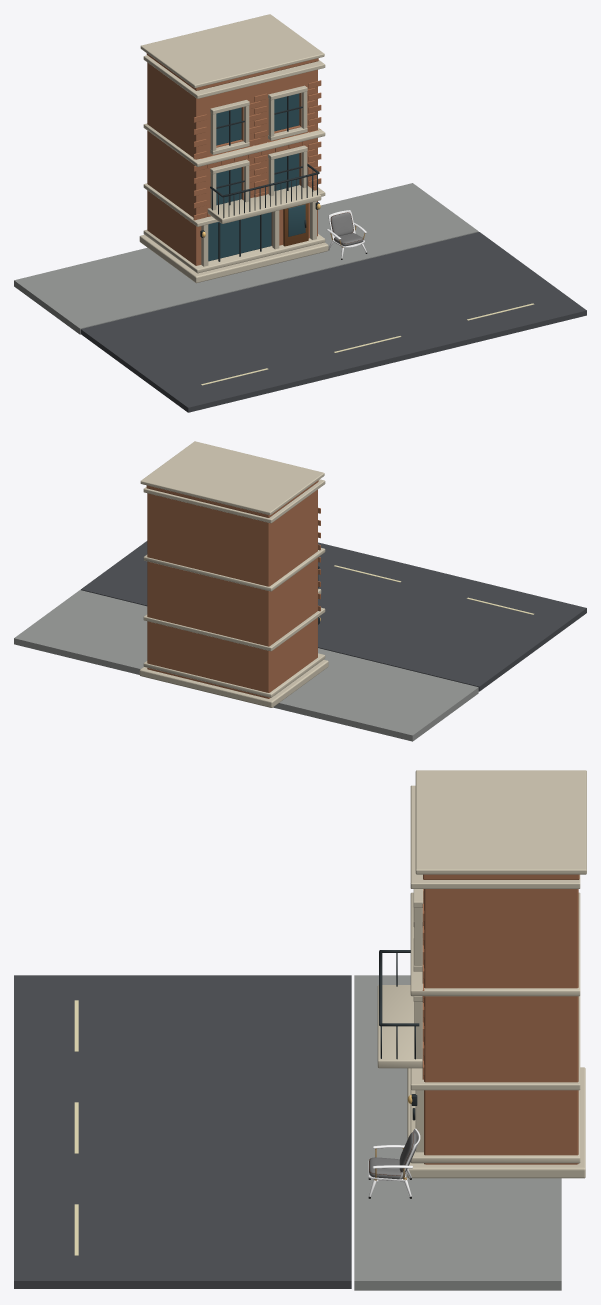
File: garage.glb
The picture shows the model from 3 angles, top to bottom: view 1: azimuth 30°, elevation 25°; view 2: azimuth 150°, elevation 25°; view 3: azimuth 270°, elevation 25°; orthographic projection. The views are drawn at different scales.
Parts seen in each view (by area): view 1: street, sidewalk, facade, roof_cap, shop_window, foundation, balcony_floor, cornice, base_course, middle_course, upper_window_left, upper_window_right (+6 smaller); view 2: facade, street, sidewalk, roof_cap, foundation, cornice, base_course, middle_course, shop_header, parapet; view 3: street, facade, sidewalk, roof_cap, foundation, balcony_floor, middle_course, cornice, shop_header, base_course, parapet.
Boxes of the visible parts, bbox=[...] form: street: bbox=[80, 232, 586, 412]; sidewalk: bbox=[14, 183, 478, 334]; facade: bbox=[147, 62, 317, 265]; roof_cap: bbox=[140, 14, 324, 88]; shop_window: bbox=[208, 212, 271, 261]; foundation: bbox=[139, 234, 328, 283]; balcony_floor: bbox=[207, 185, 321, 223]; cornice: bbox=[143, 55, 325, 98]; base_course: bbox=[143, 230, 325, 273]; middle_course: bbox=[143, 123, 325, 166]; upper_window_left: bbox=[216, 107, 241, 145]; upper_window_right: bbox=[274, 93, 299, 131]; facade: bbox=[147, 489, 317, 698]; street: bbox=[80, 541, 586, 691]; sidewalk: bbox=[14, 590, 478, 741]; roof_cap: bbox=[140, 441, 324, 515]; foundation: bbox=[139, 659, 328, 707]; cornice: bbox=[143, 479, 325, 523]; base_course: bbox=[143, 653, 325, 697]; middle_course: bbox=[143, 548, 325, 591]; shop_header: bbox=[143, 607, 325, 651]; parapet: bbox=[146, 480, 318, 517]; street: bbox=[14, 975, 351, 1288]; facade: bbox=[424, 889, 578, 1164]; sidewalk: bbox=[354, 975, 561, 1290]; roof_cap: bbox=[415, 770, 586, 874]; foundation: bbox=[407, 1067, 585, 1178]; balcony_floor: bbox=[377, 985, 422, 1068]; middle_course: bbox=[410, 892, 580, 996]; cornice: bbox=[410, 785, 580, 888]; shop_header: bbox=[410, 996, 580, 1090]; base_course: bbox=[410, 1090, 580, 1163]; parapet: bbox=[423, 874, 579, 879].
Bounding box in the file's own units: 15 × 7.27 × 11.87.
